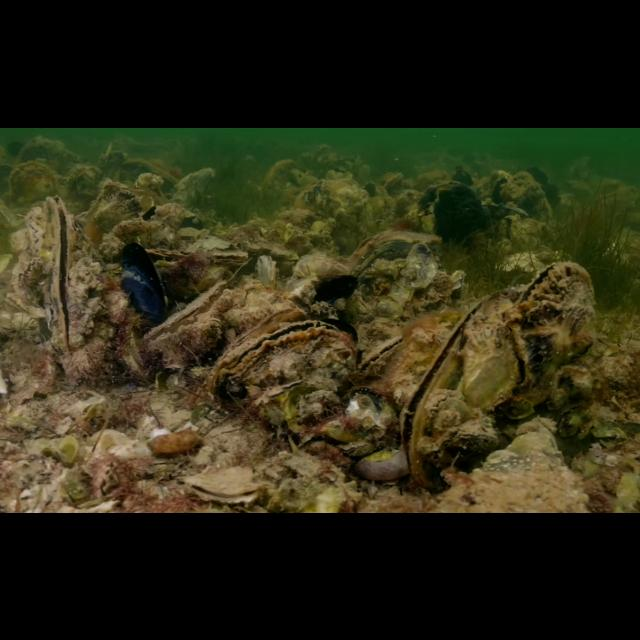Oyster-Closed: (144, 276, 228, 342), (343, 228, 443, 276), (116, 240, 170, 326), (146, 233, 250, 264), (6, 289, 50, 319), (429, 387, 469, 418), (27, 206, 51, 254), (341, 437, 383, 457), (20, 257, 48, 283)
Oyster-Open: (402, 285, 526, 493), (214, 318, 360, 396), (516, 258, 598, 396), (44, 194, 88, 360), (186, 460, 266, 506), (361, 333, 409, 373)
